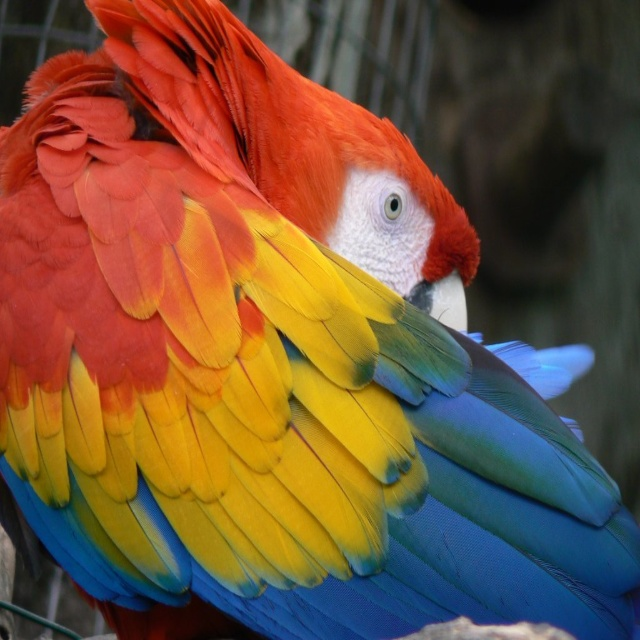Parrot: (1, 0, 639, 639)
